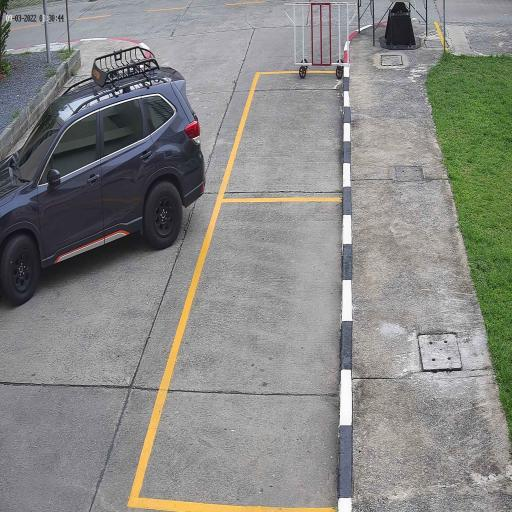car: (0, 64, 206, 304)
